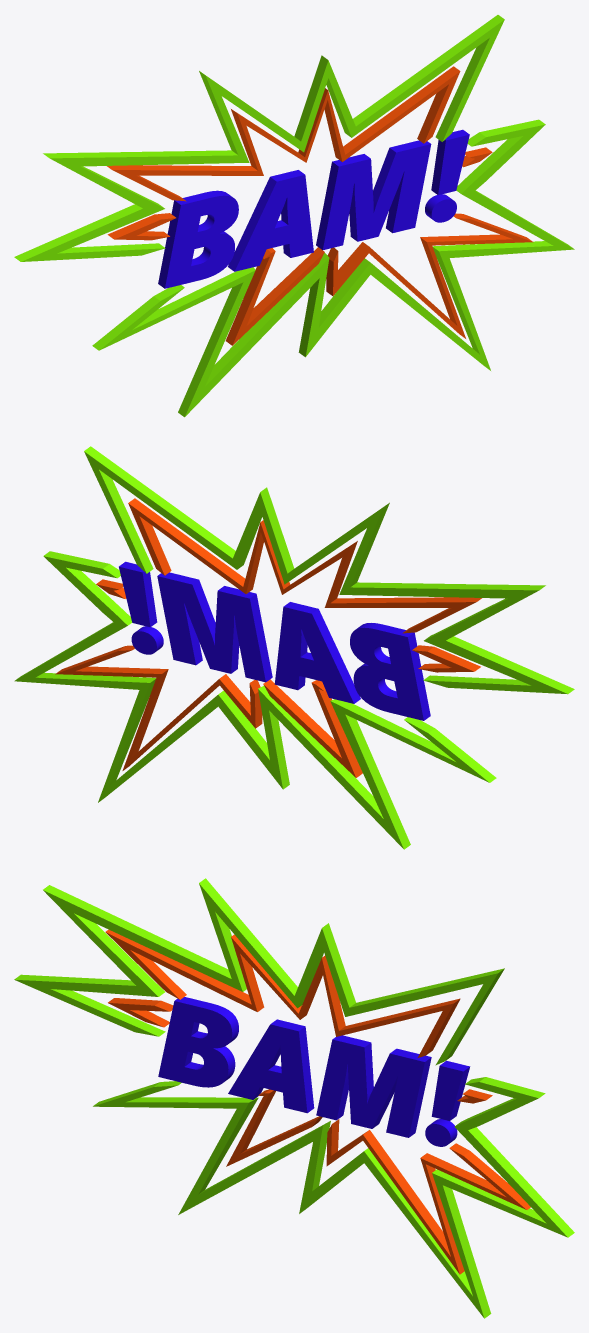
File: sm_bamlights.fbx
3 renders of one model, top to bottom at view 1: azimuth 30°, elevation 25°; view 2: azimuth 150°, elevation 25°; view 3: azimuth 330°, elevation 25°, orthographic.
Visible parts, largest first — view 1: bamlight_low (×3); view 2: bamlight_low (×3); view 3: bamlight_low (×3).
Part boxes in pixels (box(x1,y1,x2,y2)): bamlight_low (×3): box(14, 15, 574, 417); bamlight_low (×3): box(14, 446, 574, 849); bamlight_low (×3): box(14, 878, 574, 1318).
Size of the model in its own units: 111 by 70.14 by 2.48.
